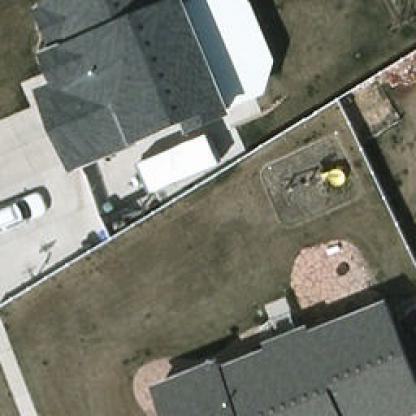camping car: (134, 136, 214, 192)
car: (0, 185, 49, 236)
